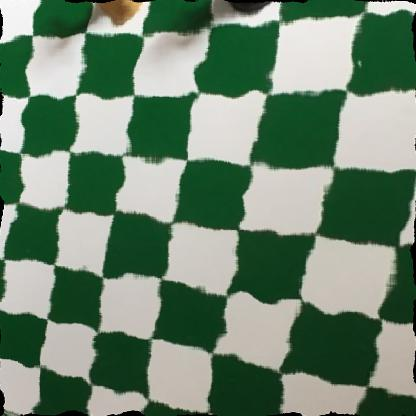black-queen: (217, 0, 297, 18)
white-queen: (91, 0, 154, 26)
